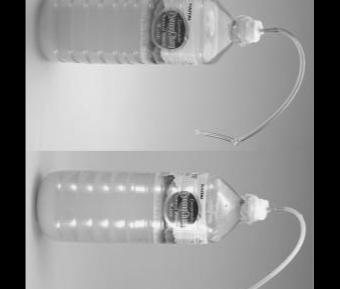bottle: (38, 168, 268, 244), (36, 0, 263, 68)
